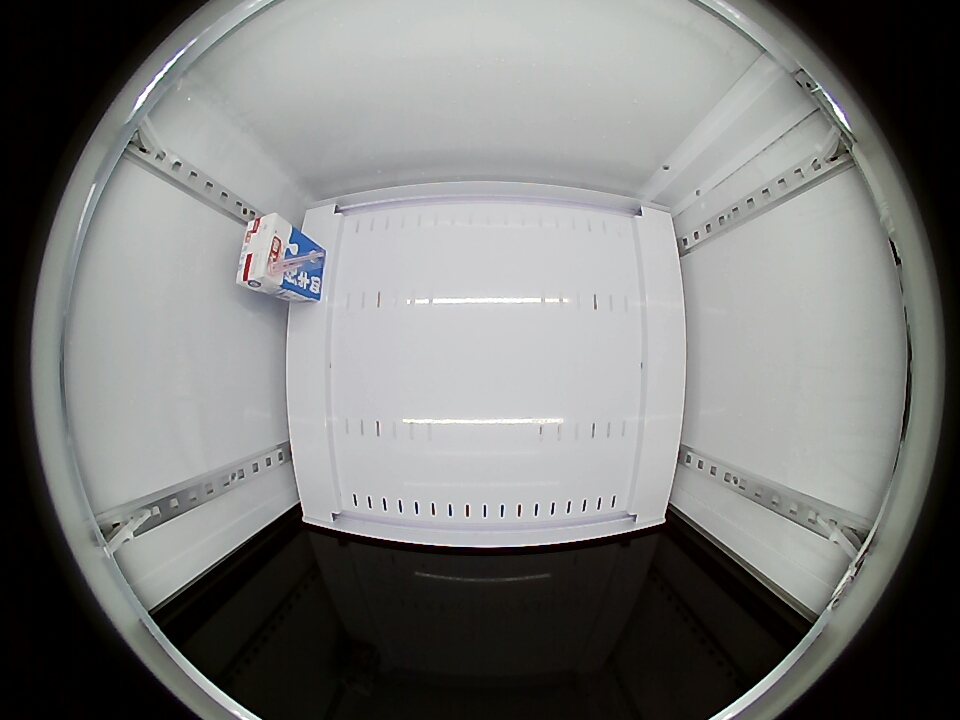niunai: (236, 212, 294, 294)
